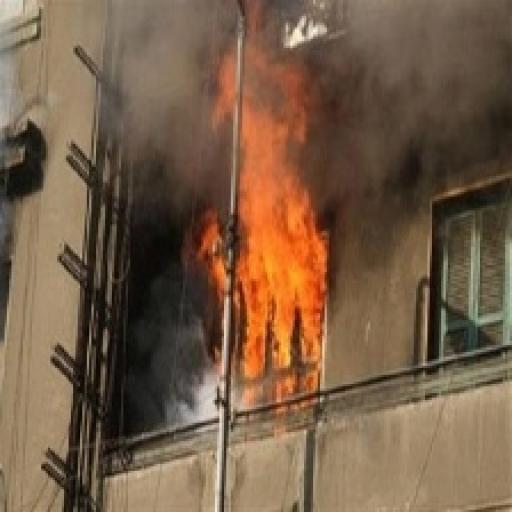fire and smoke: (234, 7, 326, 402)
